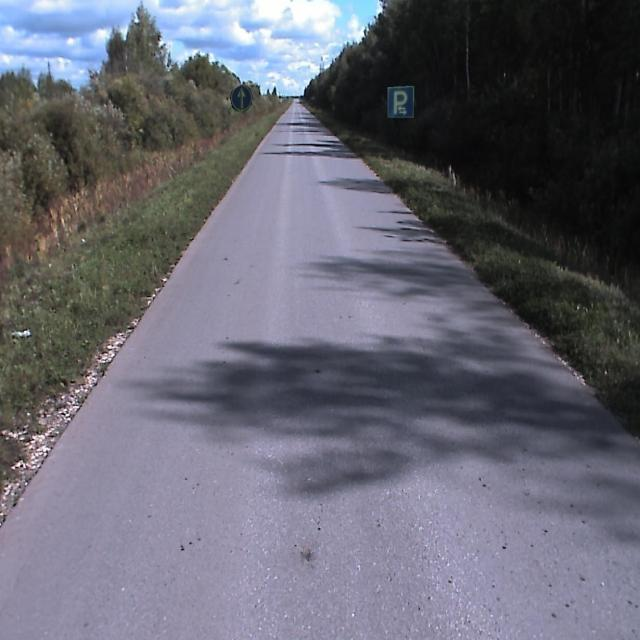road: (0, 103, 639, 639)
